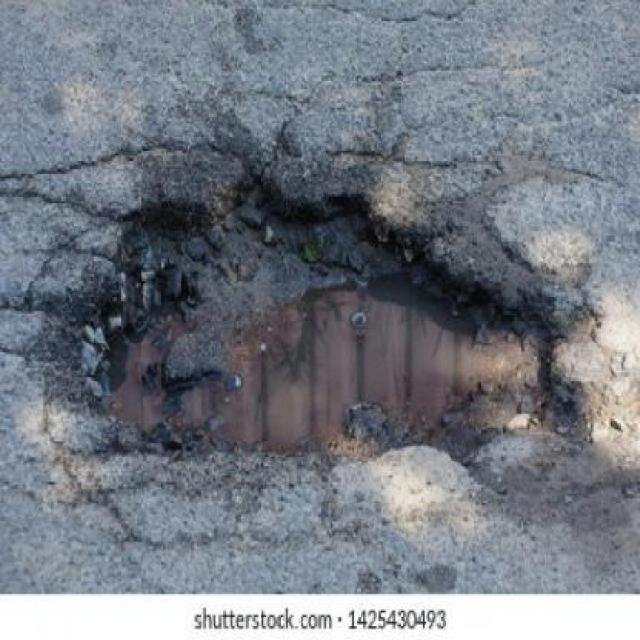Buraco: (46, 158, 585, 480)
